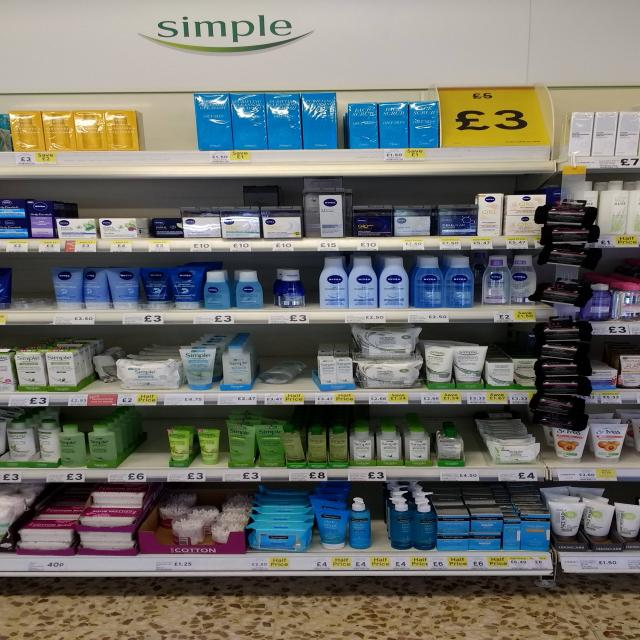void: (142, 93, 195, 177), (0, 258, 47, 323), (120, 414, 162, 481), (87, 324, 115, 405)
